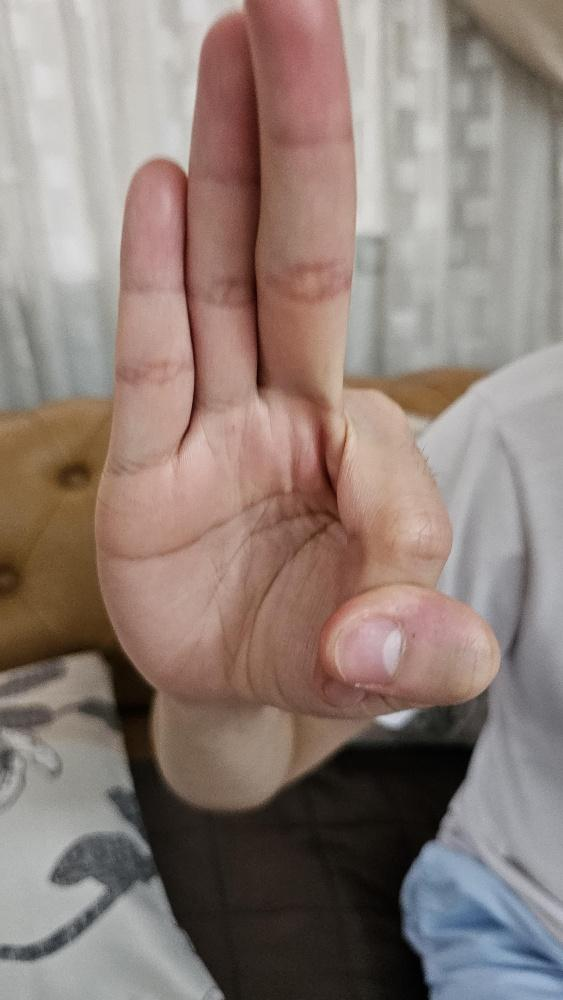f: (91, 0, 503, 728)
